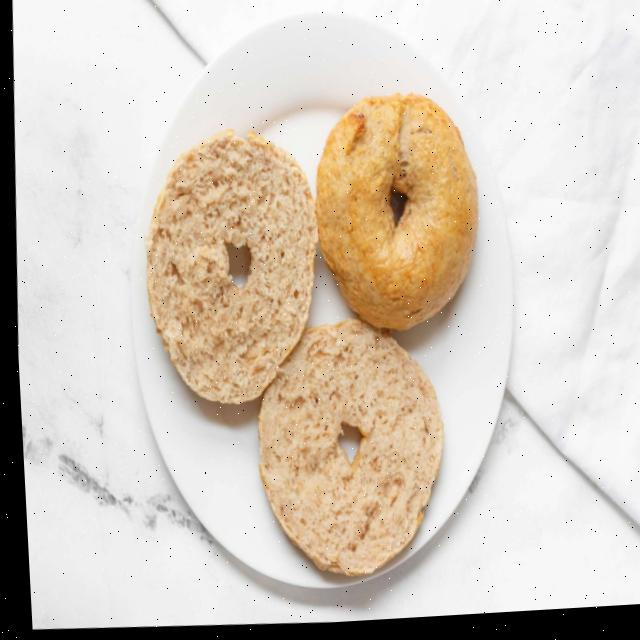Bagel: (252, 324, 436, 580), (143, 132, 314, 406), (312, 98, 474, 335)
